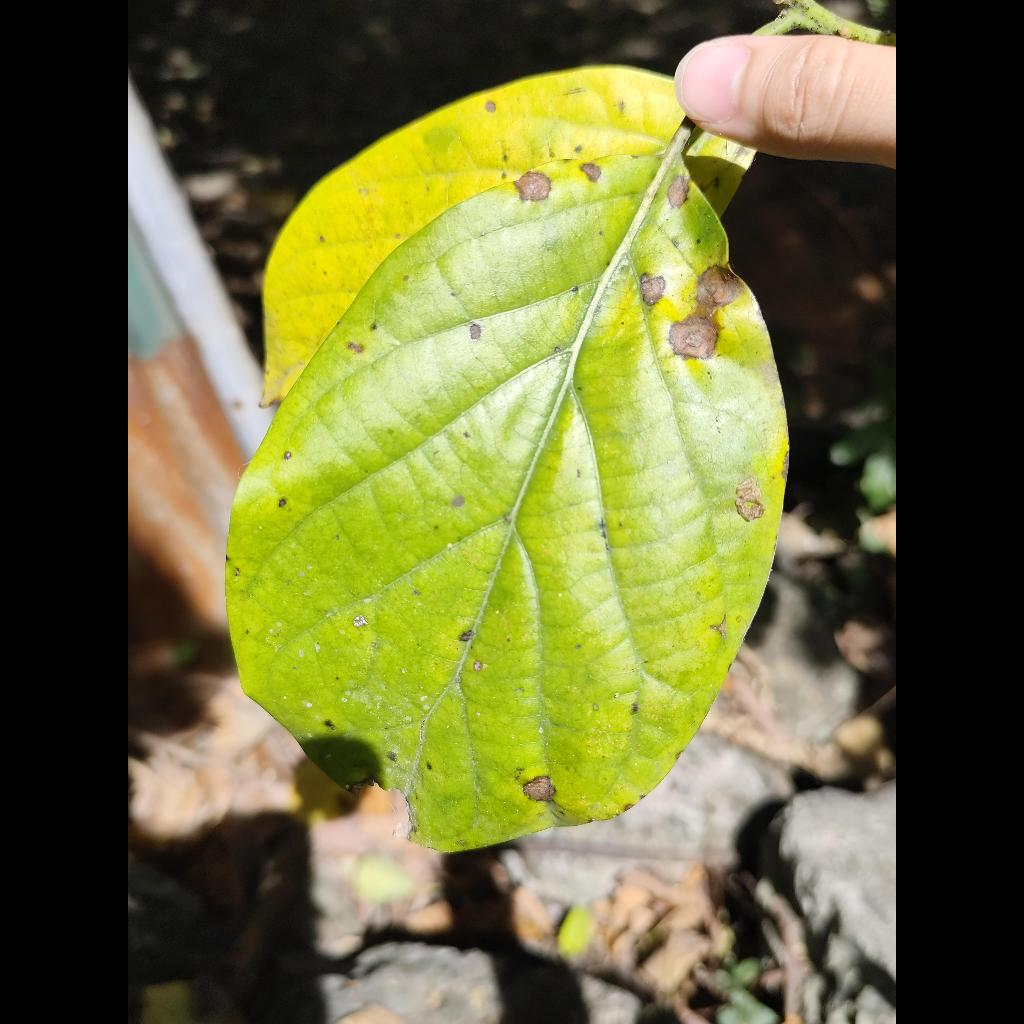deficiencia_nutricional: (226, 120, 787, 851)
